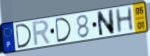8: (76, 14, 90, 40)
D: (54, 17, 73, 44), (15, 23, 34, 50)
H: (114, 5, 135, 35)
N: (96, 8, 116, 38)
R: (32, 19, 52, 48)
